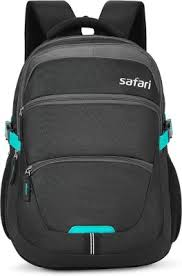backpack: (0, 0, 181, 270)
